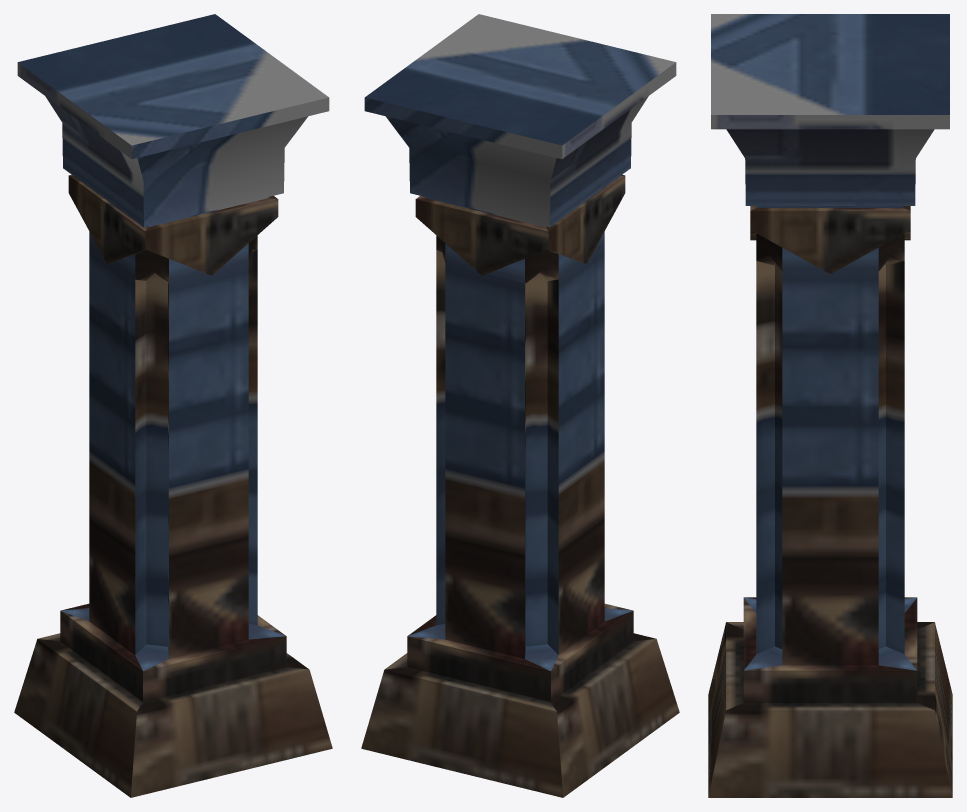
The model's file is guchengqishituan_wujian_25.FBX.
The picture shows the model from 3 angles, left to right: view 1: azimuth 30°, elevation 25°; view 2: azimuth 150°, elevation 25°; view 3: azimuth 270°, elevation 25°; orthographic projection. The views are drawn at different scales.
Parts seen in each view (by area): view 1: guchengqishituan_wujian_25; view 2: guchengqishituan_wujian_25; view 3: guchengqishituan_wujian_25.
Part boxes in pixels (left/top/right/bottom): guchengqishituan_wujian_25: left=14, top=14, right=332, bottom=797; guchengqishituan_wujian_25: left=361, top=14, right=679, bottom=797; guchengqishituan_wujian_25: left=708, top=14, right=952, bottom=797.
Bounding box in the file's own units: 154 × 474 × 154.
